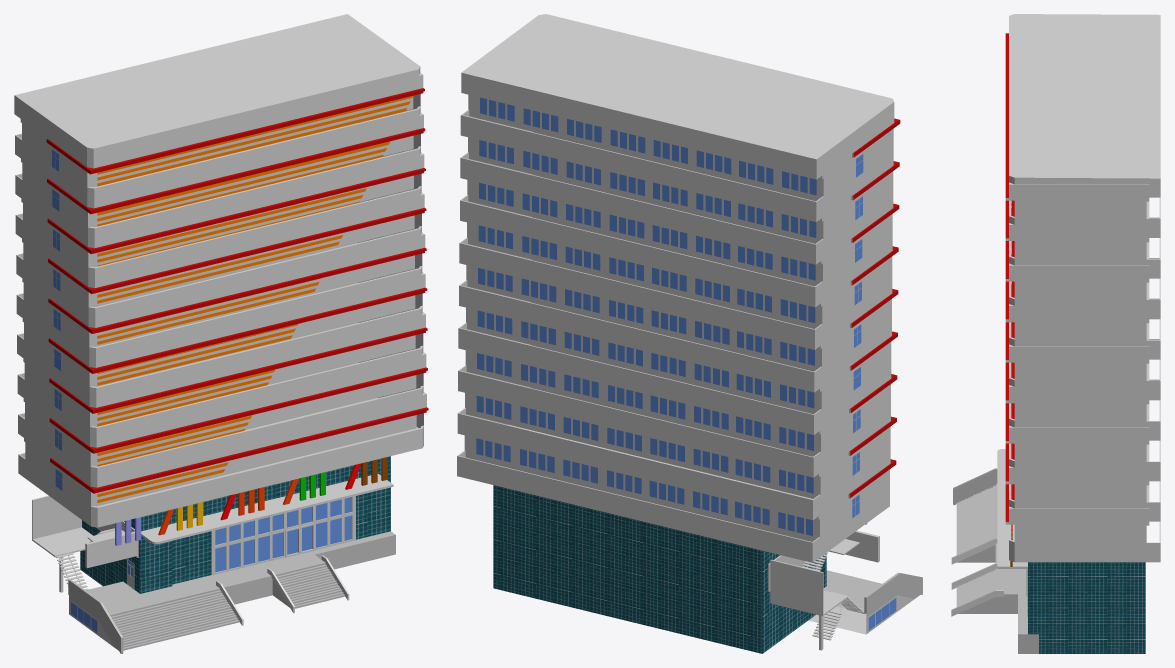
The model's file is Tòa I.obj.
3 renders of one model, left to right at view 1: azimuth 30°, elevation 25°; view 2: azimuth 150°, elevation 25°; view 3: azimuth 270°, elevation 25°, orthographic. The views are drawn at different scales.
Parts seen in each view (by area): view 1: Mesh34 Group5 Group4 Group2 Group1 T_a_I_1 Model, Mesh61 Group13 Group12 Group11 Group7 Group6 Group1 T_a_I_1 Mode, Mesh60 Group10 Group9 Group8 Group7 Group6 Group1 T_a_I_1 Model, Mesh66 Group28 Group27 Group26 Group7 Group6 Group1 T_a_I_1 Mode, Mesh68 Group34 Group33 Group32 Group7 Group6 Group1 T_a_I_1 Mode, Mesh67 Group31 Group30 Group29 Group7 Group6 Group1 T_a_I_1 Mode, Mesh64 Group22 Group21 Group20 Group7 Group6 Group1 T_a_I_1 Mode, Mesh63 Group19 Group18 Group17 Group7 Group6 Group1 T_a_I_1 Mode, Mesh65 Group25 Group24 Group23 Group7 Group6 Group1 T_a_I_1 Mode, Mesh62 Group16 Group15 Group14 Group7 Group6 Group1 T_a_I_1 Mode, Mesh49 Group5 Group4 Group2 Group1 T_a_I_1 Model, Mesh2 Group3 Group2 Group1 T_a_I_1 Model (+16 smaller); view 2: Mesh61 Group13 Group12 Group11 Group7 Group6 Group1 T_a_I_1 Mode, Mesh34 Group5 Group4 Group2 Group1 T_a_I_1 Model, Mesh65 Group25 Group24 Group23 Group7 Group6 Group1 T_a_I_1 Mode, Mesh64 Group22 Group21 Group20 Group7 Group6 Group1 T_a_I_1 Mode, Mesh60 Group10 Group9 Group8 Group7 Group6 Group1 T_a_I_1 Model, Mesh67 Group31 Group30 Group29 Group7 Group6 Group1 T_a_I_1 Mode, Mesh63 Group19 Group18 Group17 Group7 Group6 Group1 T_a_I_1 Mode, Mesh66 Group28 Group27 Group26 Group7 Group6 Group1 T_a_I_1 Mode, Mesh68 Group34 Group33 Group32 Group7 Group6 Group1 T_a_I_1 Mode, Mesh62 Group16 Group15 Group14 Group7 Group6 Group1 T_a_I_1 Mode, Mesh49 Group5 Group4 Group2 Group1 T_a_I_1 Model; view 3: Mesh61 Group13 Group12 Group11 Group7 Group6 Group1 T_a_I_1 Mode, Mesh34 Group5 Group4 Group2 Group1 T_a_I_1 Model, Mesh66 Group28 Group27 Group26 Group7 Group6 Group1 T_a_I_1 Mode, Mesh68 Group34 Group33 Group32 Group7 Group6 Group1 T_a_I_1 Mode, Mesh63 Group19 Group18 Group17 Group7 Group6 Group1 T_a_I_1 Mode, Mesh60 Group10 Group9 Group8 Group7 Group6 Group1 T_a_I_1 Model, Mesh67 Group31 Group30 Group29 Group7 Group6 Group1 T_a_I_1 Mode, Mesh64 Group22 Group21 Group20 Group7 Group6 Group1 T_a_I_1 Mode, Mesh65 Group25 Group24 Group23 Group7 Group6 Group1 T_a_I_1 Mode, Mesh62 Group16 Group15 Group14 Group7 Group6 Group1 T_a_I_1 Mode, Mesh53 Group5 Group4 Group2 Group1 T_a_I_1 Model, Mesh52 Group5 Group4 Group2 Group1 T_a_I_1 Model.
Part boxes in pixels (<box>): Mesh34 Group5 Group4 Group2 Group1 T_a_I_1 Model: <box>18,398,423,653</box>; Mesh61 Group13 Group12 Group11 Group7 Group6 Group1 T_a_I_1 Mode: <box>14,14,424,193</box>; Mesh60 Group10 Group9 Group8 Group7 Group6 Group1 T_a_I_1 Model: <box>18,358,428,512</box>; Mesh66 Group28 Group27 Group26 Group7 Group6 Group1 T_a_I_1 Mode: <box>17,318,427,473</box>; Mesh68 Group34 Group33 Group32 Group7 Group6 Group1 T_a_I_1 Mode: <box>16,238,427,393</box>; Mesh67 Group31 Group30 Group29 Group7 Group6 Group1 T_a_I_1 Mode: <box>17,278,427,432</box>; Mesh64 Group22 Group21 Group20 Group7 Group6 Group1 T_a_I_1 Mode: <box>16,198,426,353</box>; Mesh63 Group19 Group18 Group17 Group7 Group6 Group1 T_a_I_1 Mode: <box>15,186,426,313</box>; Mesh65 Group25 Group24 Group23 Group7 Group6 Group1 T_a_I_1 Mode: <box>15,119,425,273</box>; Mesh62 Group16 Group15 Group14 Group7 Group6 Group1 T_a_I_1 Mode: <box>15,106,425,233</box>; Mesh49 Group5 Group4 Group2 Group1 T_a_I_1 Model: <box>32,495,92,558</box>; Mesh2 Group3 Group2 Group1 T_a_I_1 Model: <box>97,101,410,180</box>; Mesh61 Group13 Group12 Group11 Group7 Group6 Group1 T_a_I_1 Mode: <box>461,14,900,202</box>; Mesh34 Group5 Group4 Group2 Group1 T_a_I_1 Model: <box>457,424,922,653</box>; Mesh65 Group25 Group24 Group23 Group7 Group6 Group1 T_a_I_1 Mode: <box>460,126,899,287</box>; Mesh64 Group22 Group21 Group20 Group7 Group6 Group1 T_a_I_1 Mode: <box>459,211,898,372</box>; Mesh60 Group10 Group9 Group8 Group7 Group6 Group1 T_a_I_1 Model: <box>457,382,896,542</box>; Mesh67 Group31 Group30 Group29 Group7 Group6 Group1 T_a_I_1 Mode: <box>458,297,897,457</box>; Mesh63 Group19 Group18 Group17 Group7 Group6 Group1 T_a_I_1 Mode: <box>460,169,898,330</box>; Mesh66 Group28 Group27 Group26 Group7 Group6 Group1 T_a_I_1 Mode: <box>458,339,896,500</box>; Mesh68 Group34 Group33 Group32 Group7 Group6 Group1 T_a_I_1 Mode: <box>459,254,897,414</box>; Mesh62 Group16 Group15 Group14 Group7 Group6 Group1 T_a_I_1 Mode: <box>460,110,899,244</box>; Mesh49 Group5 Group4 Group2 Group1 T_a_I_1 Model: <box>770,559,848,616</box>; Mesh61 Group13 Group12 Group11 Group7 Group6 Group1 T_a_I_1 Mode: <box>1005,14,1160,224</box>; Mesh34 Group5 Group4 Group2 Group1 T_a_I_1 Model: <box>951,379,1160,653</box>; Mesh66 Group28 Group27 Group26 Group7 Group6 Group1 T_a_I_1 Mode: <box>1005,298,1160,508</box>; Mesh68 Group34 Group33 Group32 Group7 Group6 Group1 T_a_I_1 Mode: <box>1005,217,1160,427</box>; Mesh63 Group19 Group18 Group17 Group7 Group6 Group1 T_a_I_1 Mode: <box>1005,278,1160,346</box>; Mesh60 Group10 Group9 Group8 Group7 Group6 Group1 T_a_I_1 Model: <box>1005,339,1160,548</box>; Mesh67 Group31 Group30 Group29 Group7 Group6 Group1 T_a_I_1 Mode: <box>1005,258,1160,467</box>; Mesh64 Group22 Group21 Group20 Group7 Group6 Group1 T_a_I_1 Mode: <box>1005,319,1160,386</box>; Mesh65 Group25 Group24 Group23 Group7 Group6 Group1 T_a_I_1 Mode: <box>1005,238,1160,305</box>; Mesh62 Group16 Group15 Group14 Group7 Group6 Group1 T_a_I_1 Mode: <box>1005,197,1160,265</box>; Mesh53 Group5 Group4 Group2 Group1 T_a_I_1 Model: <box>951,538,997,564</box>; Mesh52 Group5 Group4 Group2 Group1 T_a_I_1 Model: <box>951,563,997,589</box>.
Bounding box in the file's own units: 28132 × 38620 × 14980.
Materials: 14 (1 with a texture image).
